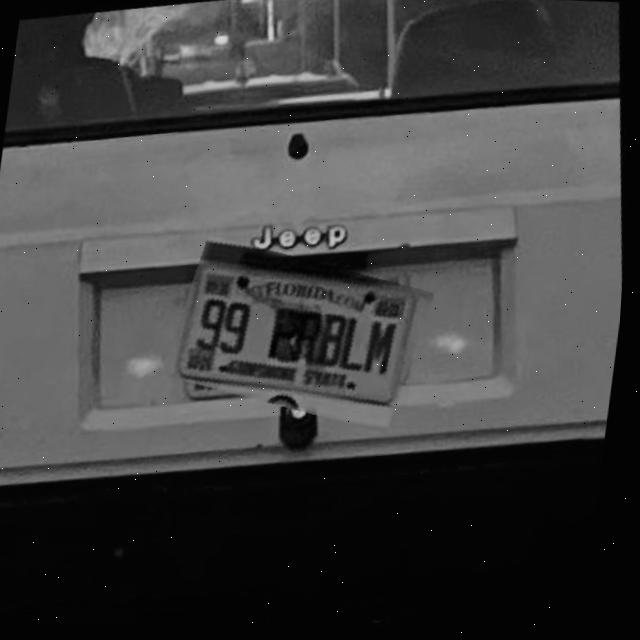LicensePlate: (177, 262, 425, 410)
